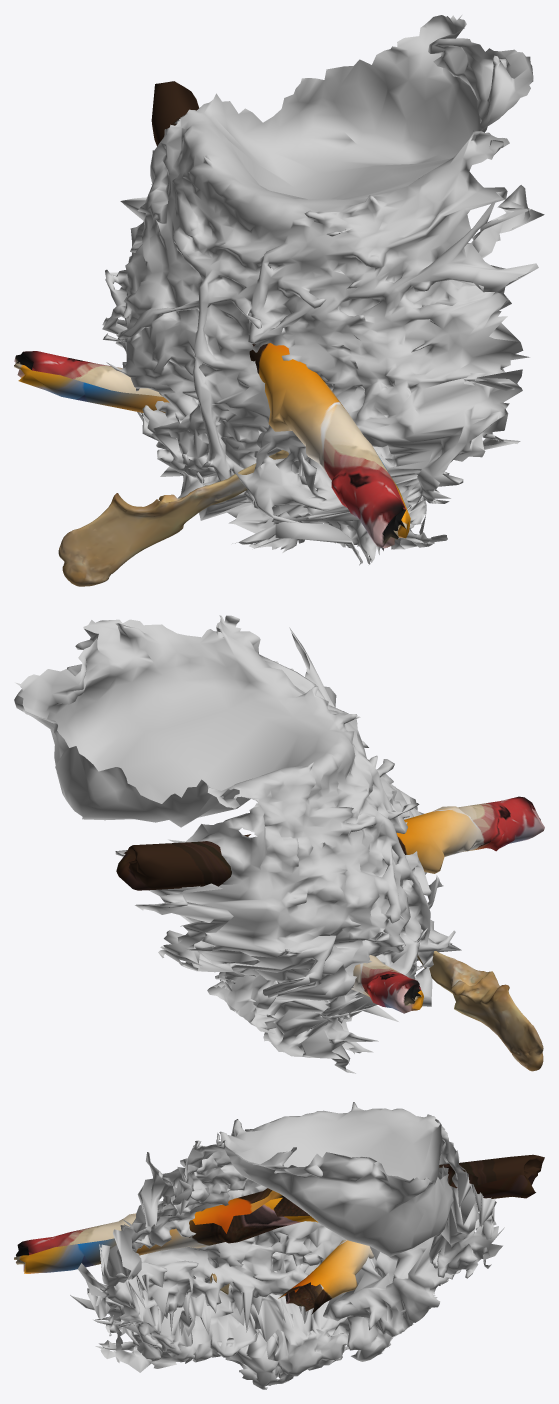
The model's file is nest.fbx.
The picture shows the model from 3 angles, top to bottom: view 1: azimuth 30°, elevation 25°; view 2: azimuth 150°, elevation 25°; view 3: azimuth 270°, elevation 25°; orthographic projection. The views are drawn at different scales.
Visible parts, largest first — view 1: Nest, Sticks; view 2: Nest, Sticks; view 3: Nest, Sticks.
Boxes of the visible parts, x1,y1,x2,y2 form: Nest: (58, 15, 544, 586); Sticks: (14, 81, 410, 548); Nest: (14, 615, 543, 1073); Sticks: (116, 796, 544, 1013); Nest: (70, 1102, 504, 1389); Sticks: (14, 1154, 544, 1314).
Bounding box in the file's own units: 260 × 213 × 310.
